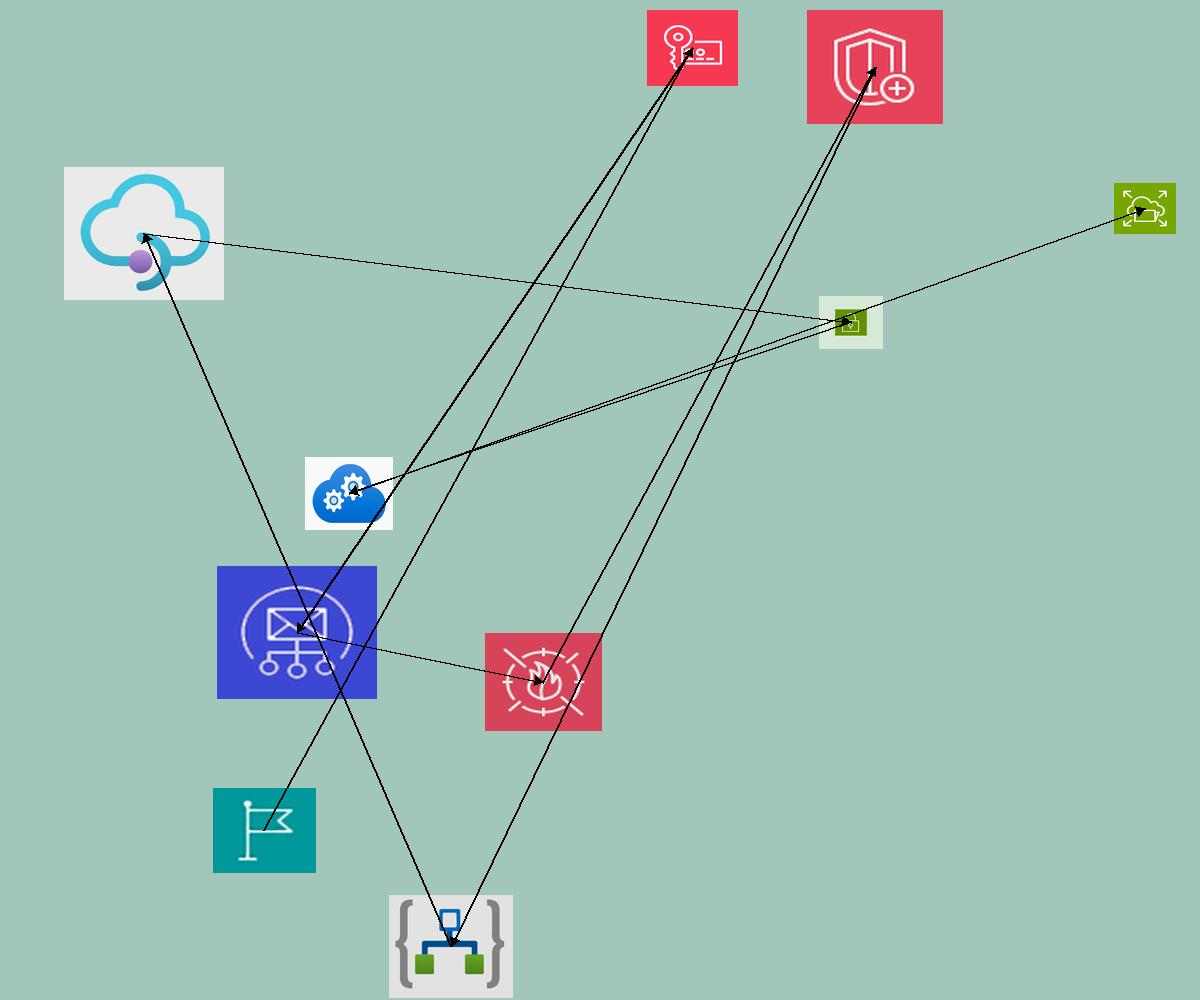AWS-EFS: (1114, 183, 1176, 234)
AWS-Key-Management-Service: (647, 10, 738, 86)
AWS-Public-subnet: (819, 296, 883, 349)
AWS-Region: (213, 788, 316, 873)
AWS-Shield: (807, 10, 943, 124)
AWS-Simple-Email-Service: (217, 566, 377, 699)
AWS-WAF: (485, 633, 602, 731)
Azure_api_gateway: (64, 167, 224, 300)
Azure_cloud_services: (305, 457, 393, 530)
Azure_integration-204-Logic-Apps: (389, 895, 513, 998)
